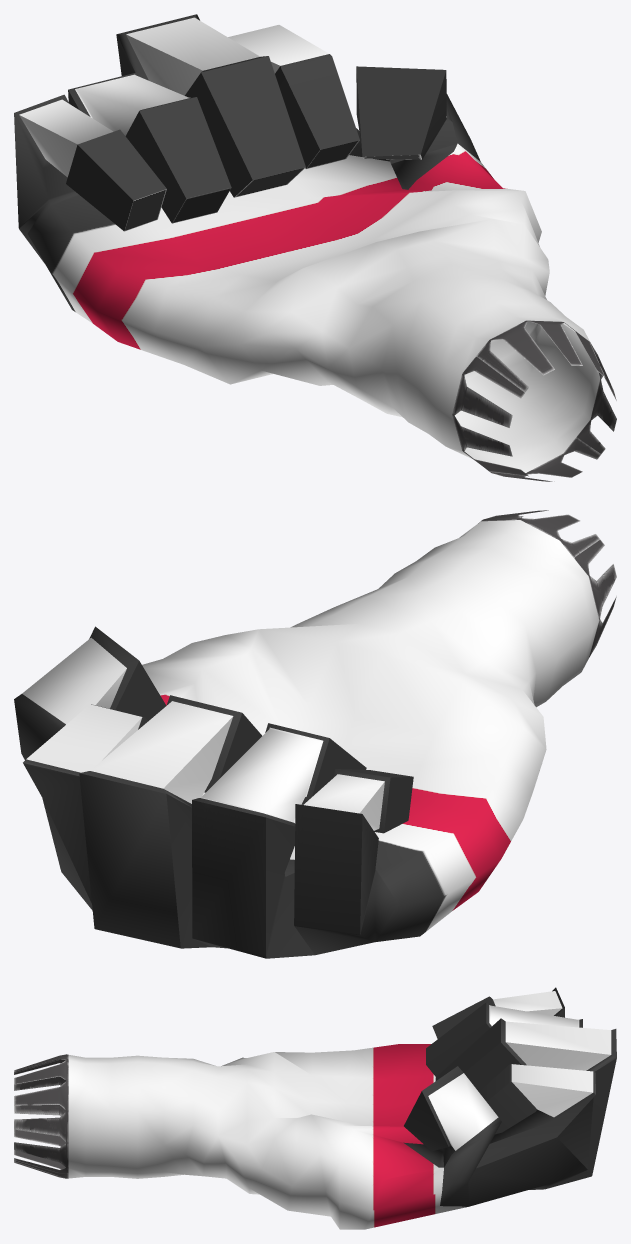
File: TJ_LowPolyHand.FBX
3 renders of one model, top to bottom at view 1: azimuth 30°, elevation 25°; view 2: azimuth 150°, elevation 25°; view 3: azimuth 270°, elevation 25°, orthographic. The views are drawn at different scales.
Visible parts, largest first — view 1: Cylinder001; view 2: Cylinder001; view 3: Cylinder001.
Part boxes in pixels (x1=…): Cylinder001: x1=14, y1=14, x2=616, y2=481; Cylinder001: x1=14, y1=510, x2=616, y2=958; Cylinder001: x1=14, y1=987, x2=616, y2=1229.
Size of the model in its own units: 37.19 by 17.3 by 63.62.
